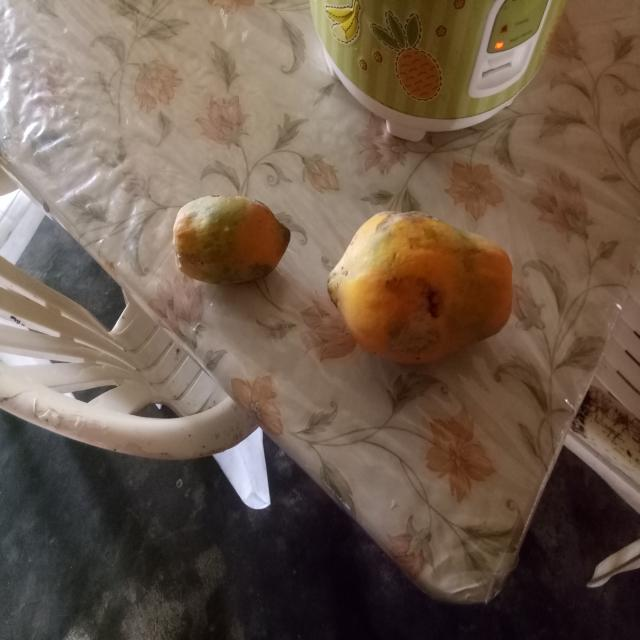Pepaya rippen: (320, 202, 527, 373), (172, 197, 292, 291)
